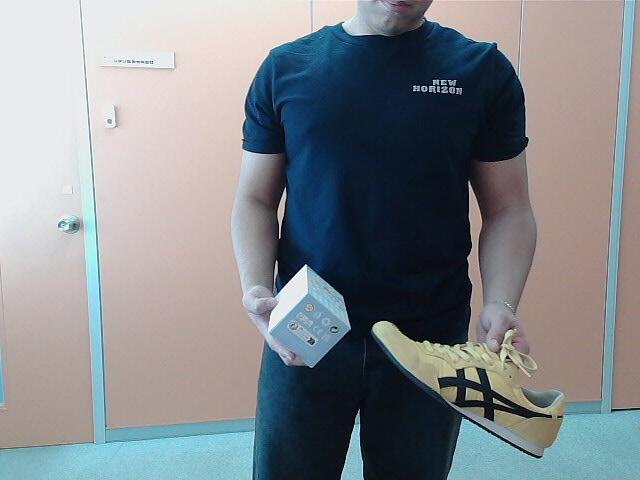Blind_box: (270, 258, 354, 376)
Shoes: (371, 321, 564, 463)
